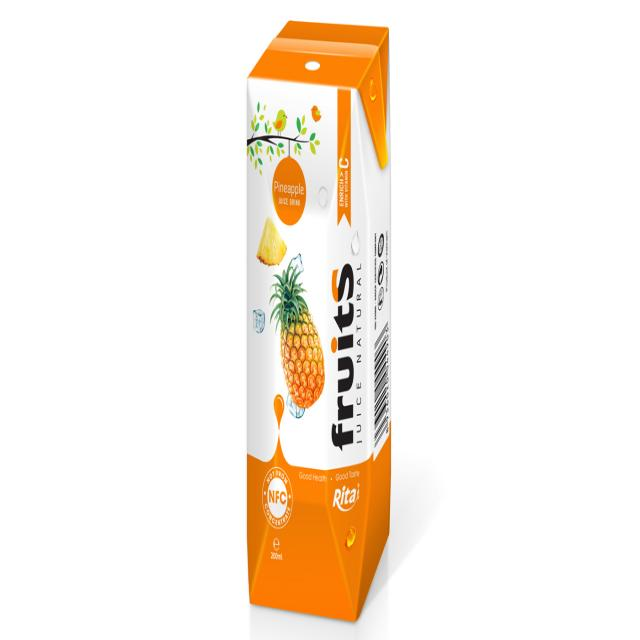non_white_jug: (226, 18, 404, 616)
